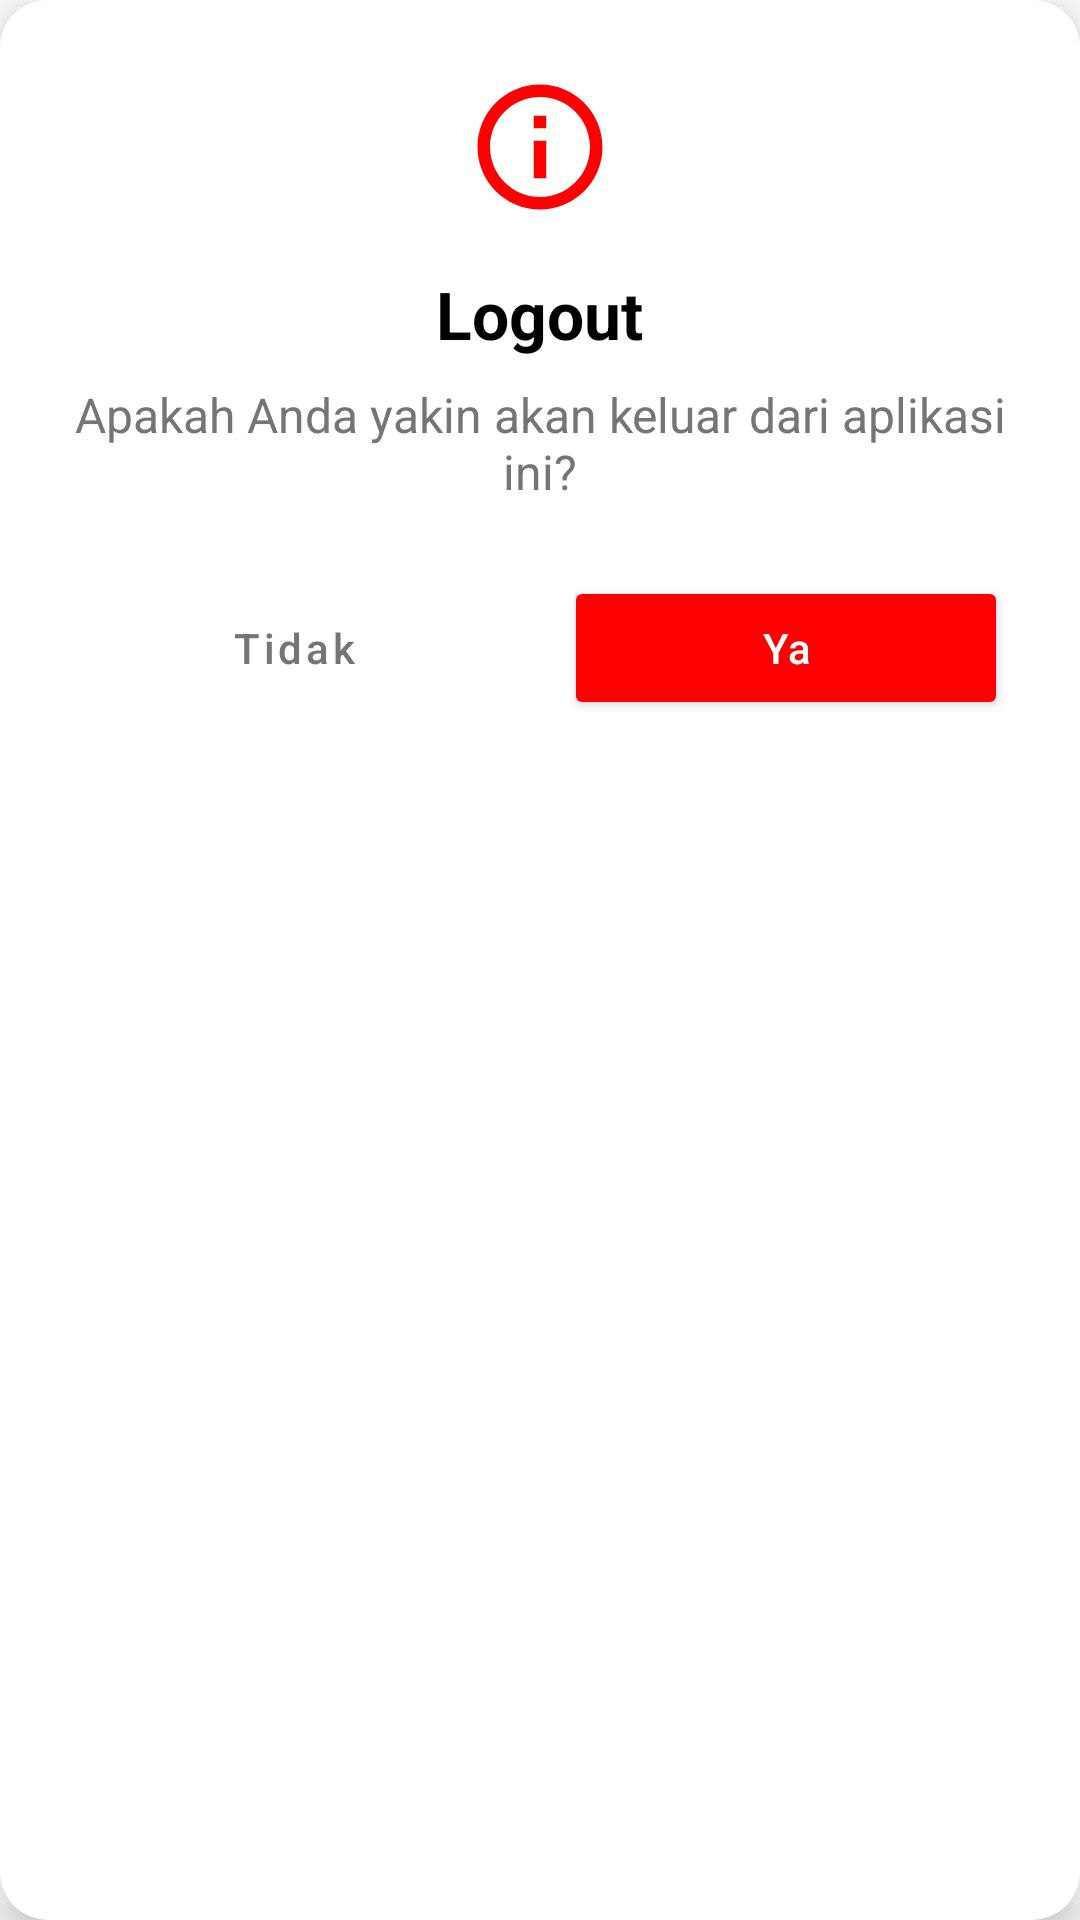

Named icons in this screenshot (1080 × 1920) and their bounding boxes, (x1=x1, y1=y1, x2=x2, y2=y2):
info: (x1=477, y1=84, x2=603, y2=210)
